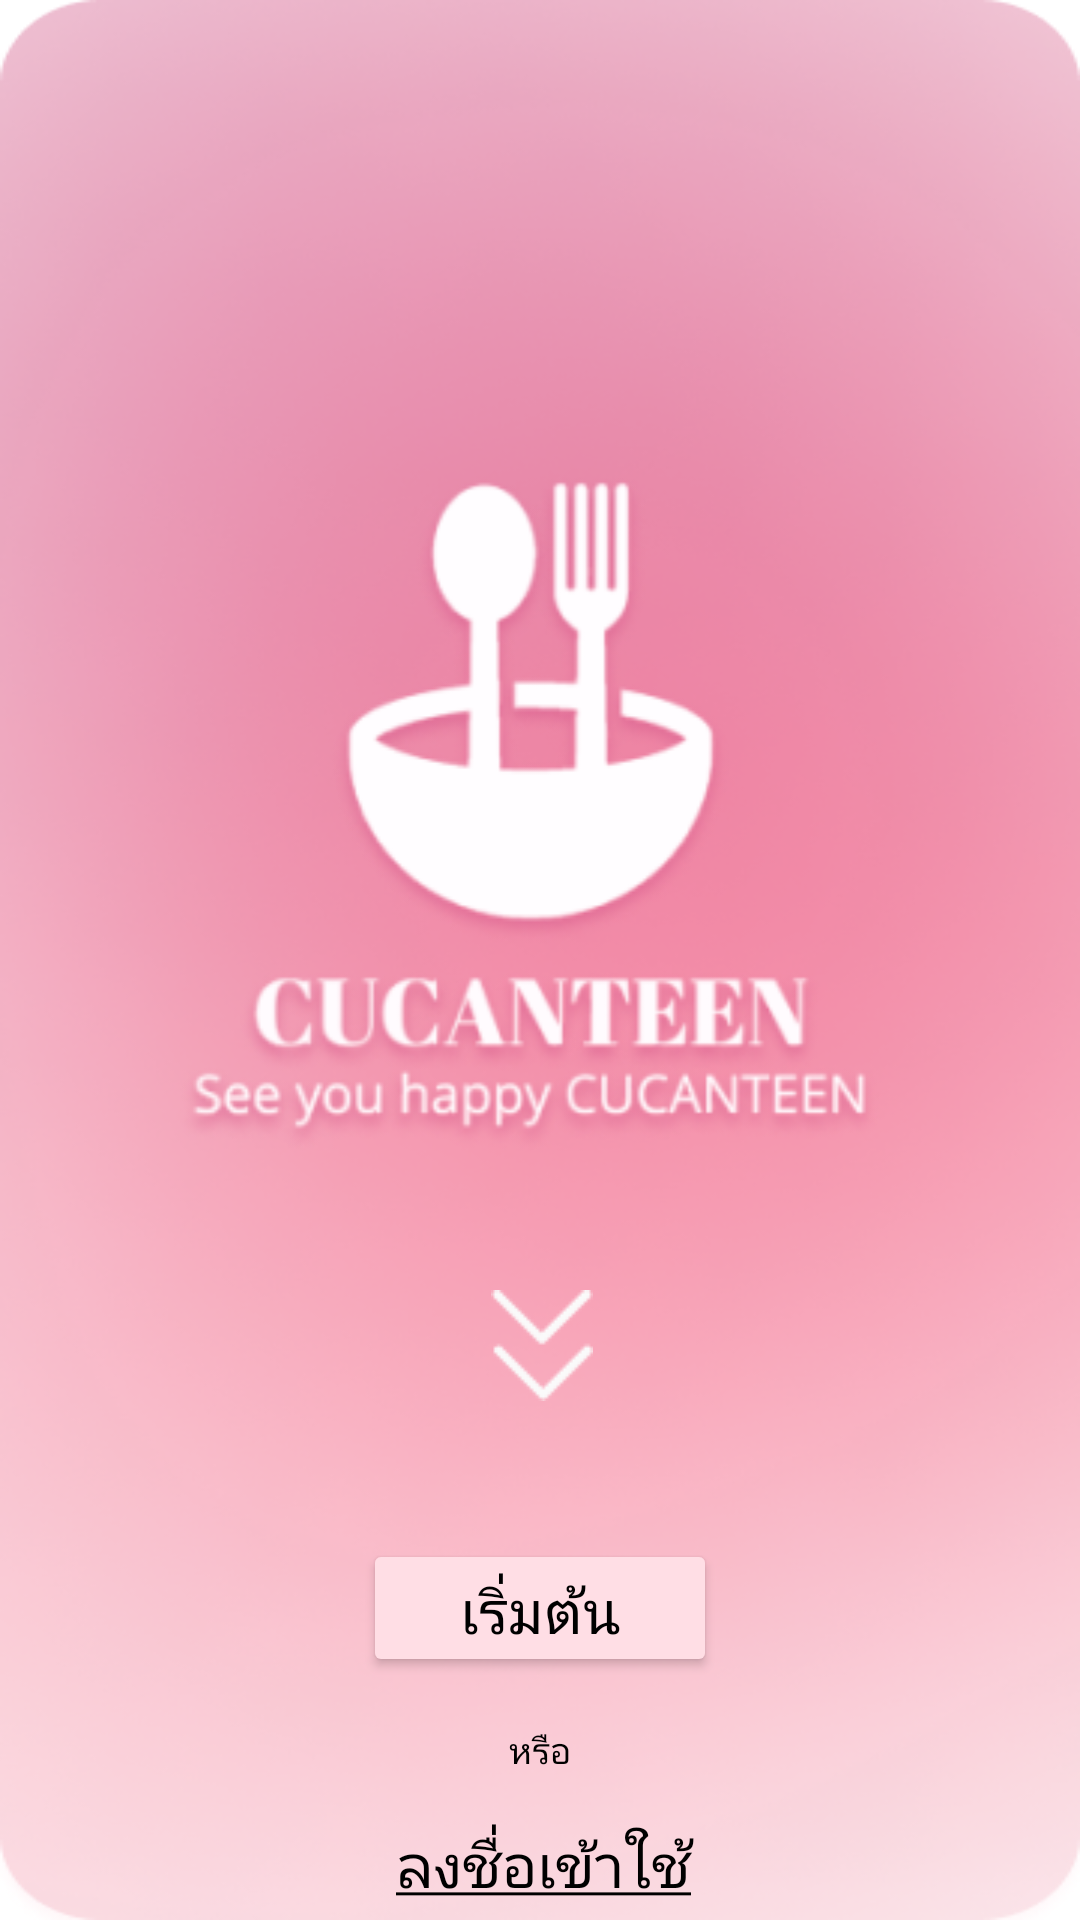

Named icons in this screenshot (1080x1920) and their bounding boxes, bbox=(x1, y1, x2, y2):
arrow: bbox=(491, 1290, 593, 1401)
